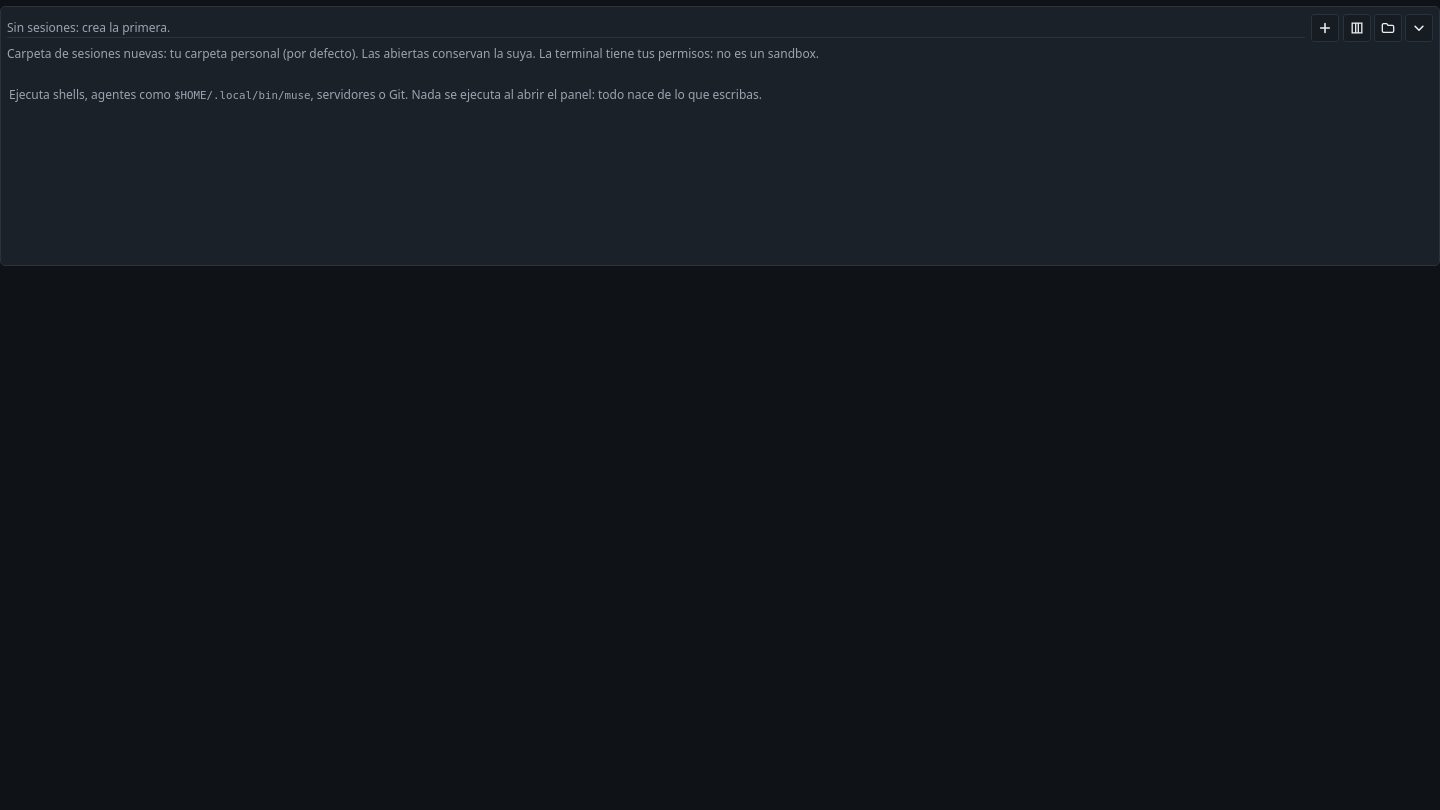
Test: terminales: pestañas y paralelo › cierra con confirmación y conserva la otra sesión
This screenshot has width=1440, height=810.
What coordinates should you click on to do the following:
click the button named "Nueva terminal"
I would click on:
 (1325, 28)
Its box is [1311, 14, 1339, 42].
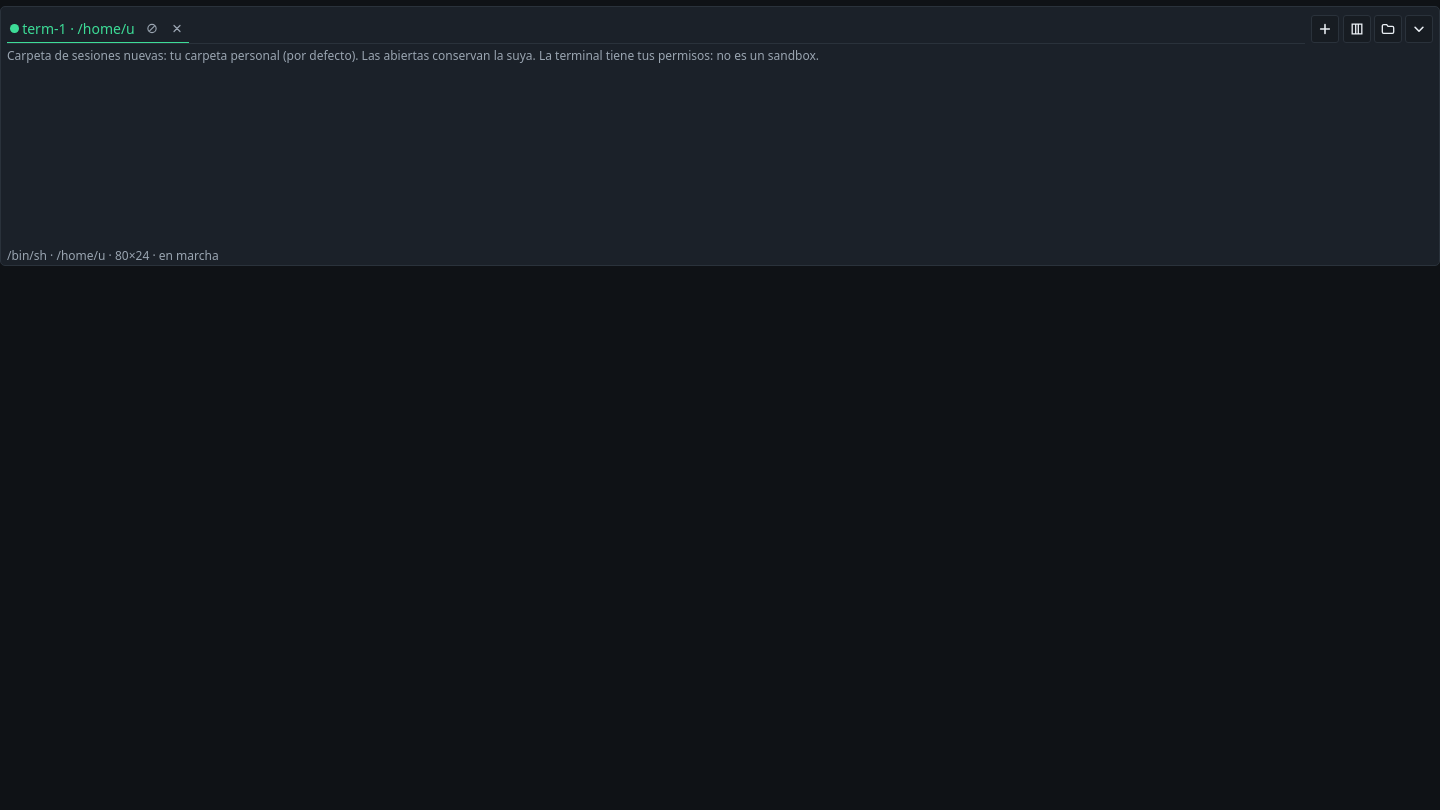
expect the number of tabs is 1: met, box [7, 14, 138, 42]
What coordinates should you click on to do the following:
click the button named "Nueva terminal"
I would click on:
 (1325, 29)
Its box is [1311, 15, 1339, 43].
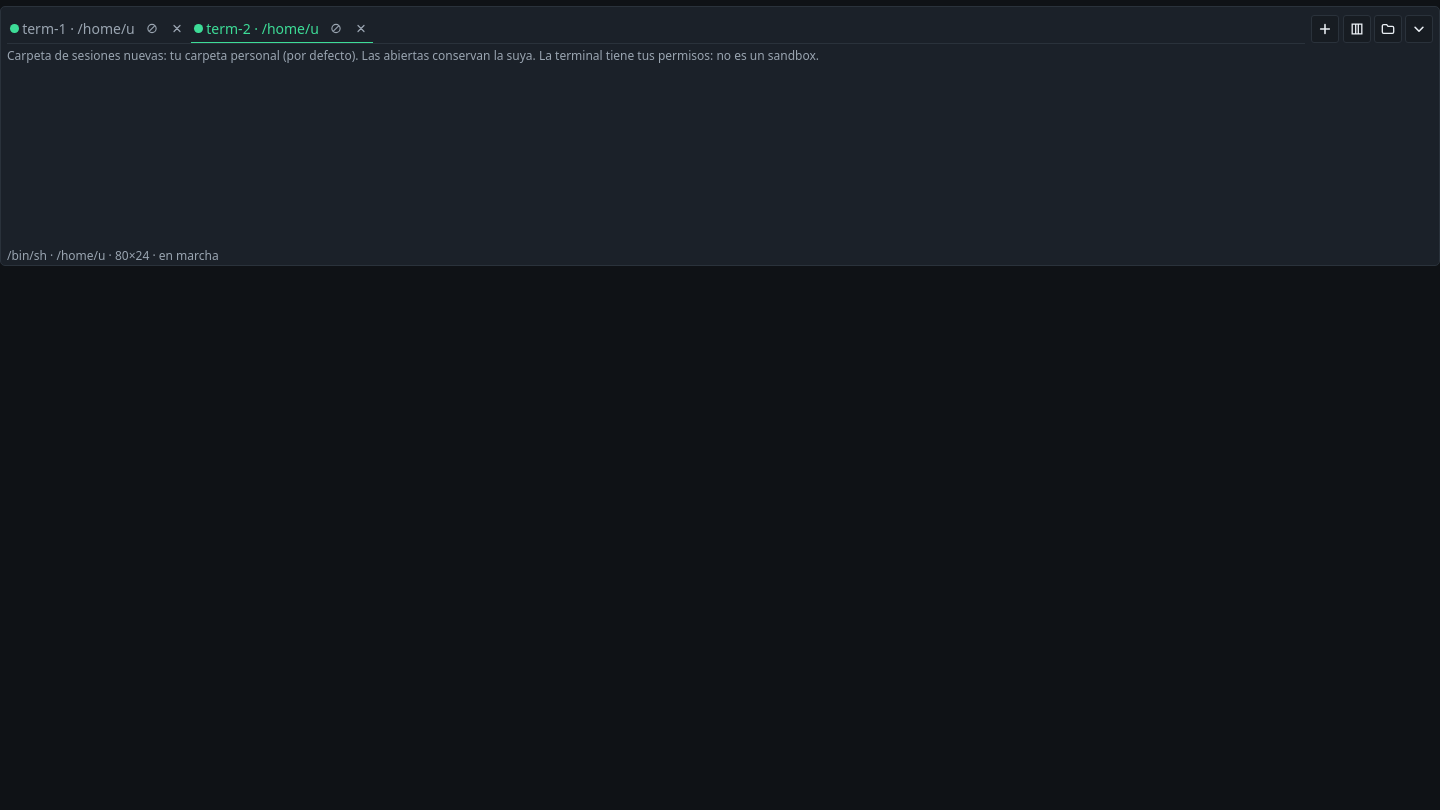
expect the number of tabs is 2: met, box [7, 14, 138, 42]; [191, 14, 322, 42]
What coordinates should you click on to do the following:
click the button named "Cerrar term-1"
I would click on:
 (177, 28)
Its box is [165, 16, 189, 40].
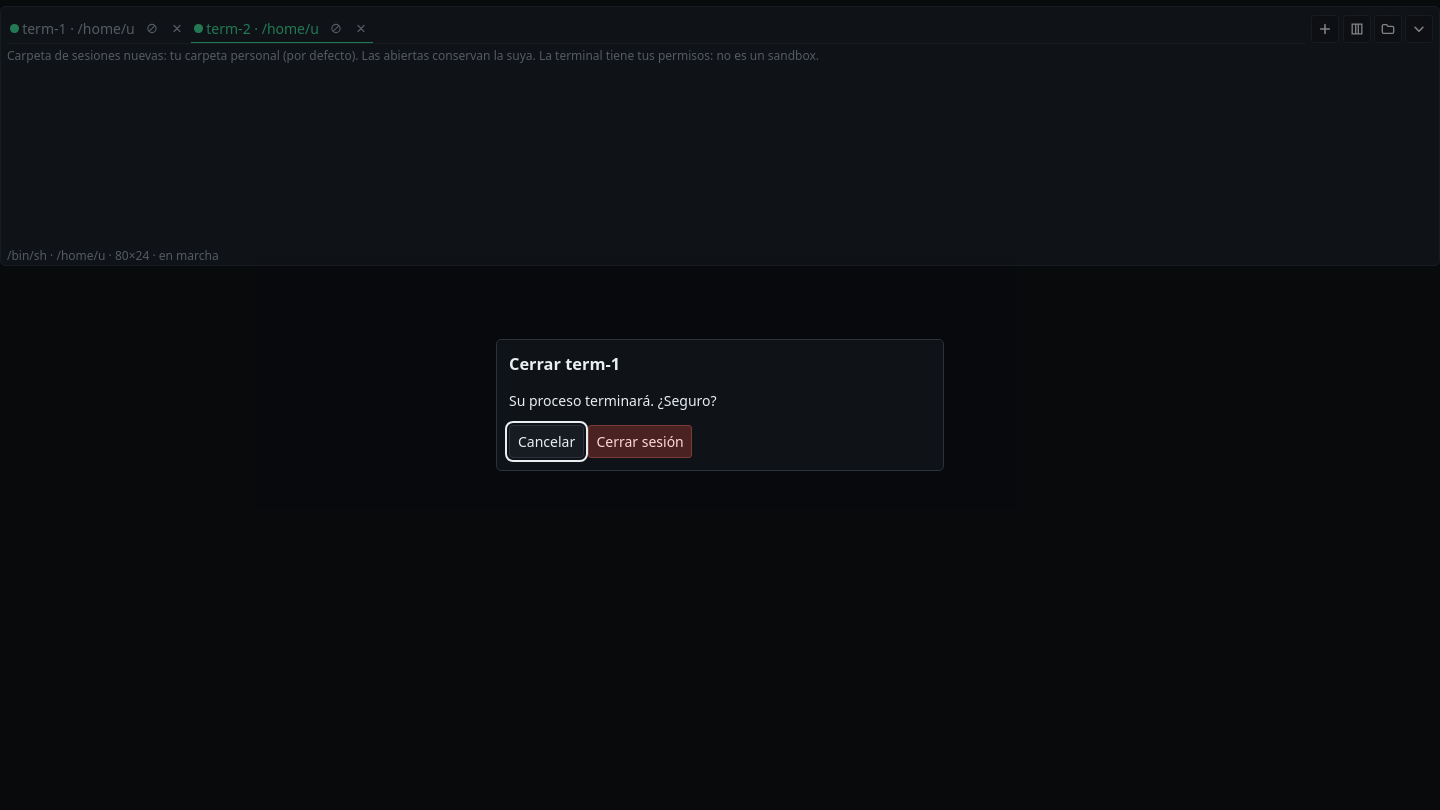
What coordinates should you click on to do the following:
click the button "Cancelar"
I would click on:
 (547, 442)
Its box is [509, 426, 584, 458].
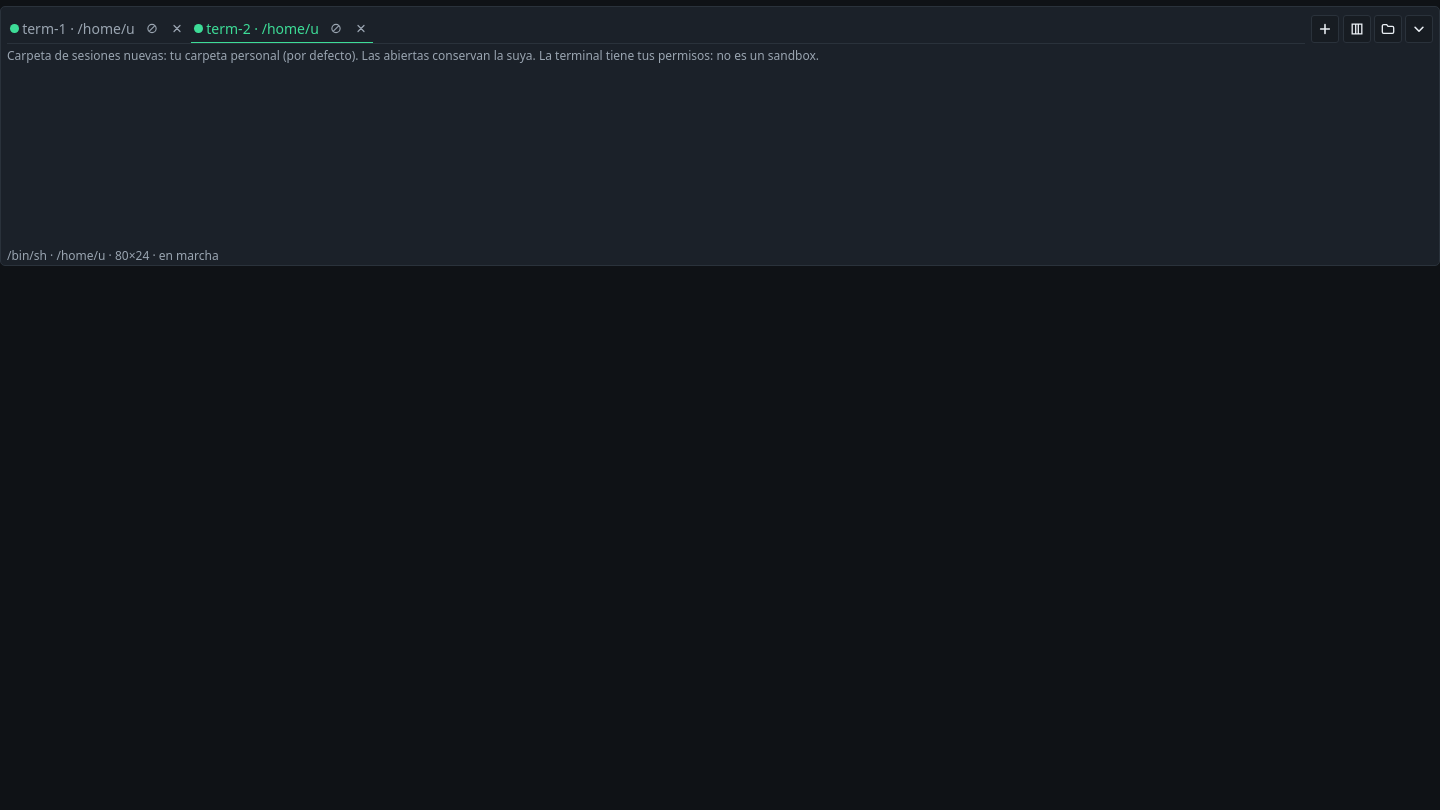
expect the number of tabs is 2: met, box [7, 14, 138, 42]; [191, 14, 322, 42]
expect the dialog is gone: met
What coordinates should you click on to do the following:
click the button named "Cerrar term-1"
I would click on:
 (177, 28)
Its box is [165, 16, 189, 40].
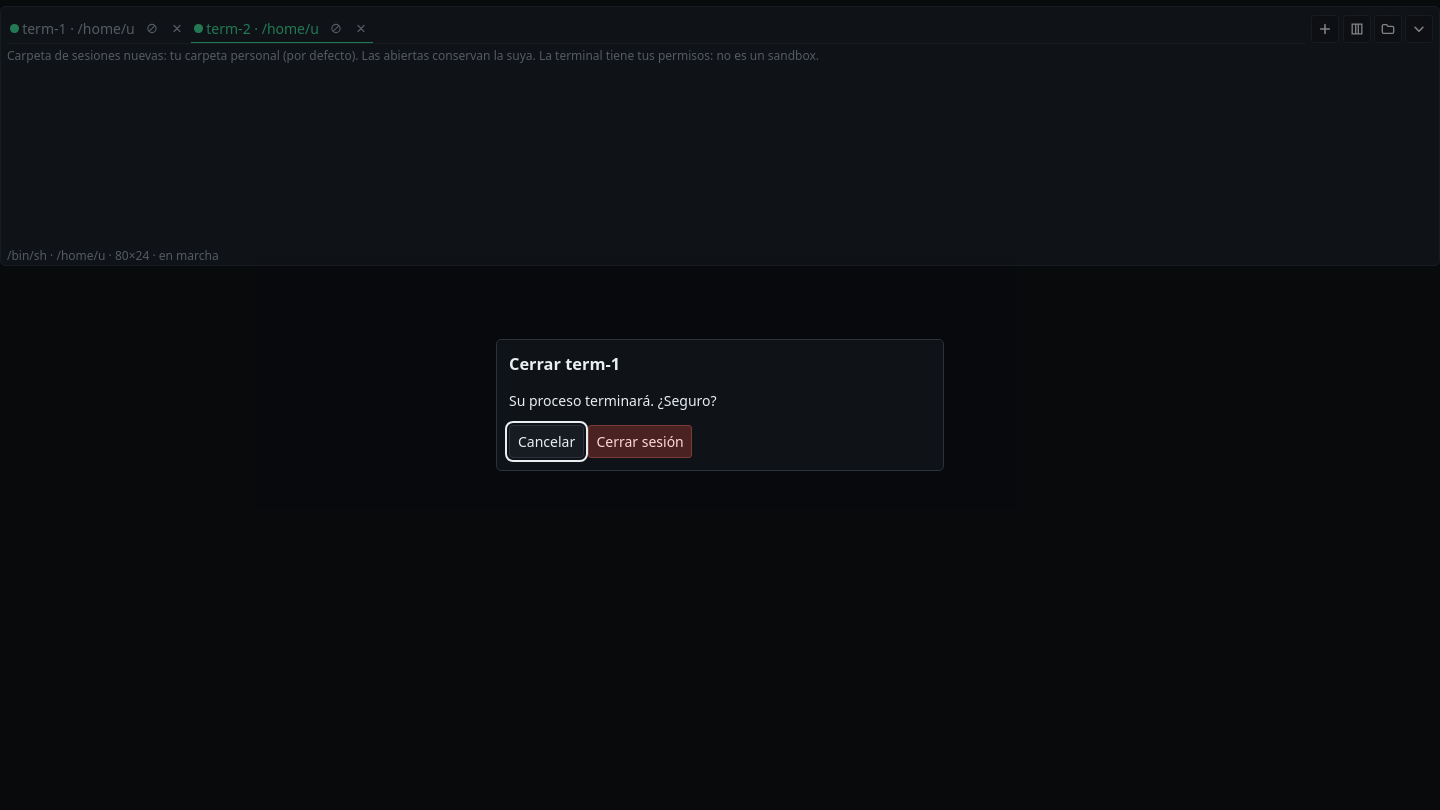
What coordinates should you click on to do the following:
click the button "Cerrar sesión"
I would click on:
 (640, 442)
Its box is [588, 426, 692, 458].
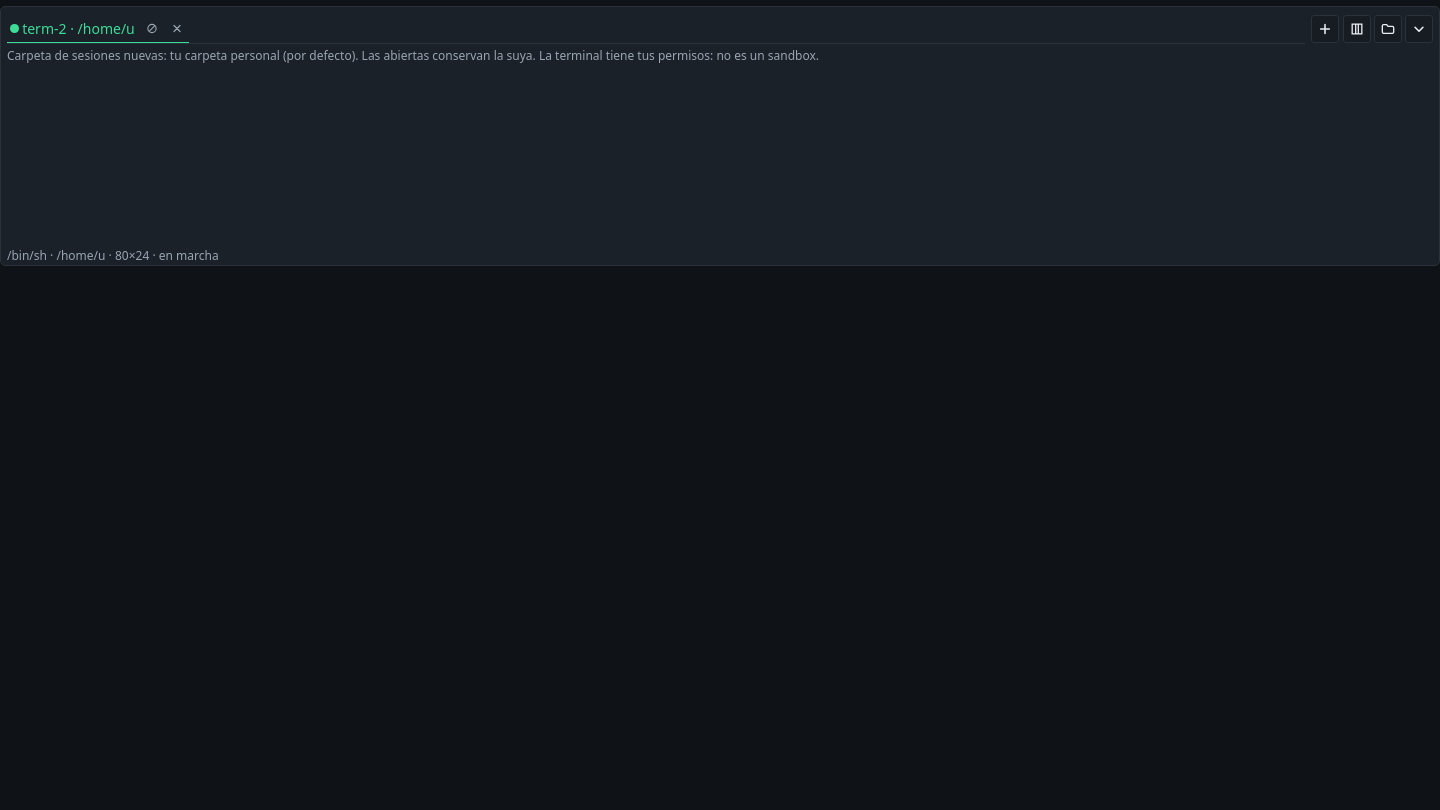
expect the number of tabs is 1: met, box [7, 14, 138, 42]
